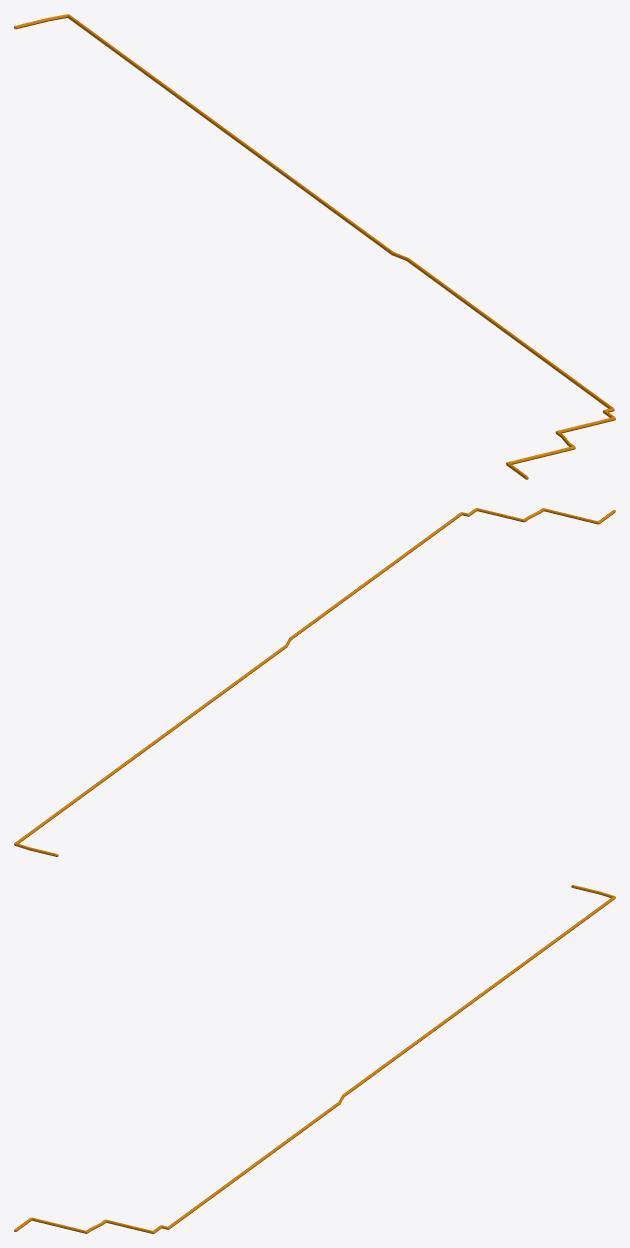
The picture shows the model from 3 angles, top to bottom: view 1: azimuth 30°, elevation 25°; view 2: azimuth 150°, elevation 25°; view 3: azimuth 330°, elevation 25°; orthographic projection. The views are drawn at different scales.
Bounding box in the file's own units: 833 × 20 × 6192.
